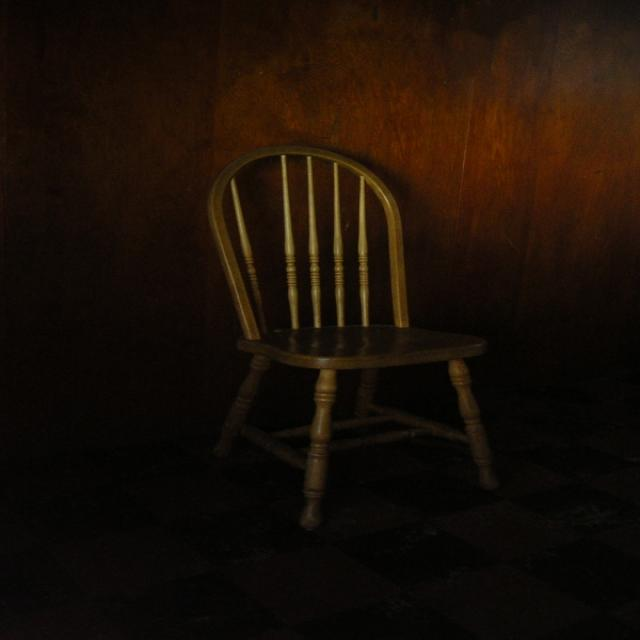chair: (185, 114, 524, 556)
